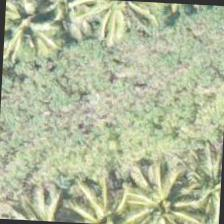Kelapa_Sawit: (114, 159, 209, 223), (54, 172, 148, 223), (2, 0, 71, 64)
